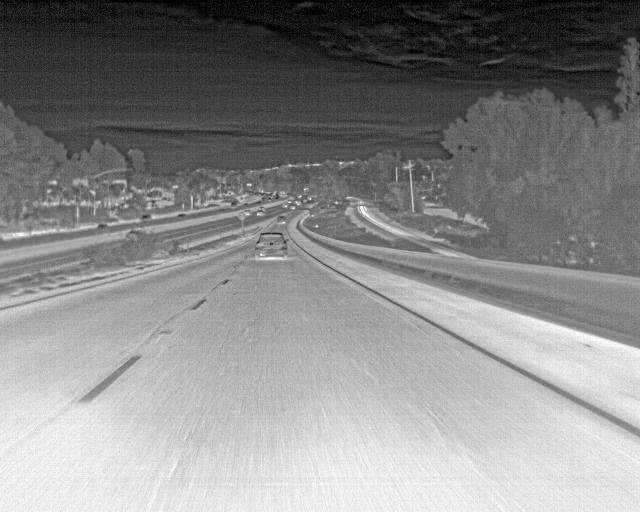car: (252, 232, 289, 261), (96, 221, 109, 234), (139, 212, 152, 223), (274, 216, 286, 226), (255, 208, 266, 218)
